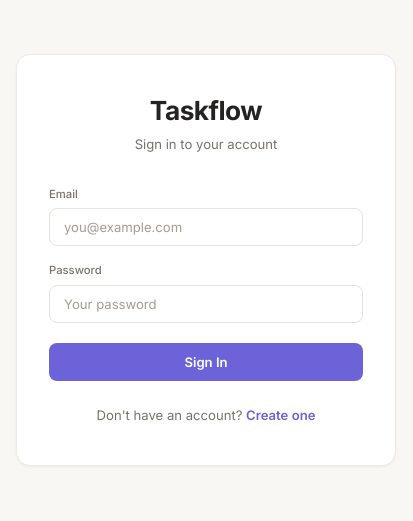
App - Authentication › shows register page when switching
Expected: the button "Sign In" is shown, x1=49 y1=343 x2=363 y2=381
Click the button "Create one" at (281, 415), box x1=246 y1=407 x2=315 y2=423
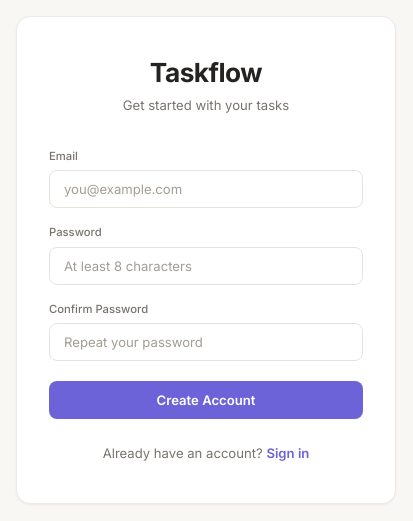
Expected: the button "Create Account" is shown, x1=49 y1=381 x2=363 y2=419
